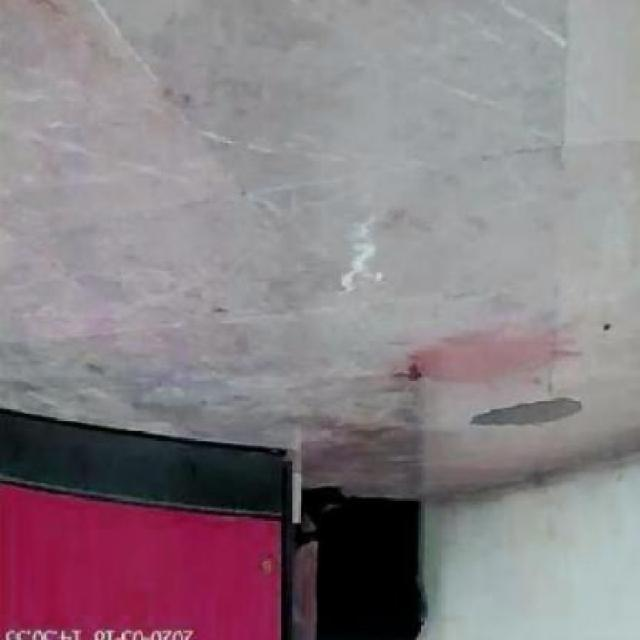spillage: (470, 395, 582, 427)
